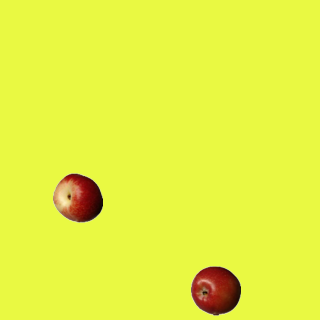Apple Braeburn: (190, 265, 240, 315)
Nectarine: (52, 172, 102, 222)
